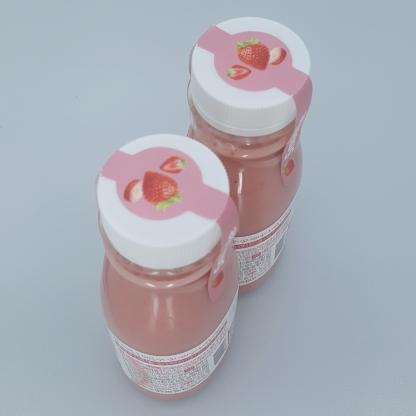--------------------190ML: (95, 133, 240, 401), (186, 17, 312, 294)
